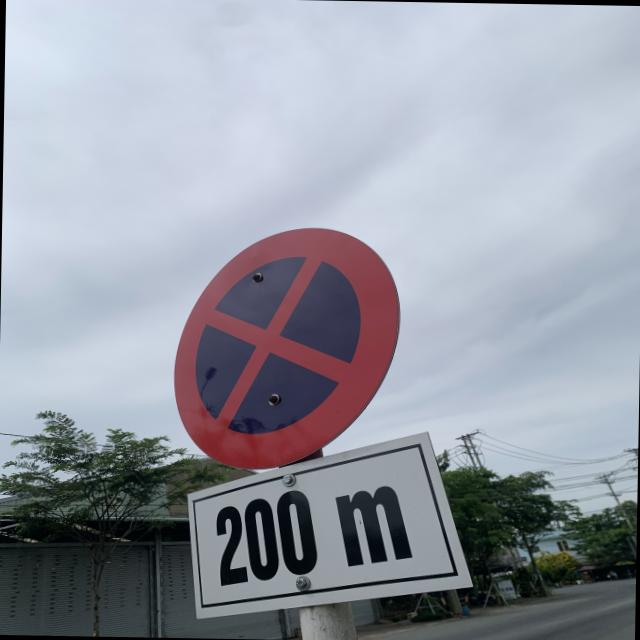Cam_Dung_Va_Dau_Xe: (171, 225, 400, 470)
